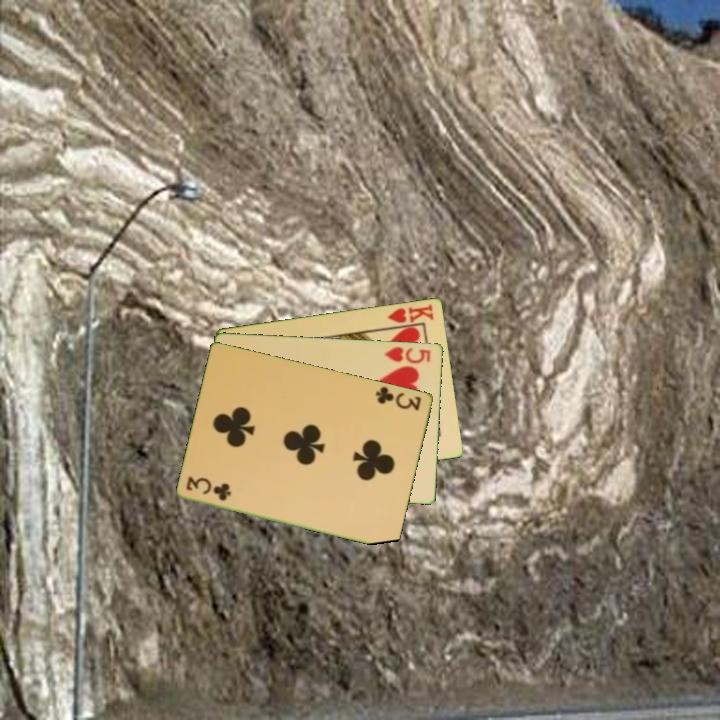3c: (373, 383, 424, 413), (183, 474, 234, 503)
5h: (381, 343, 434, 366)
Kh: (382, 300, 437, 330)
